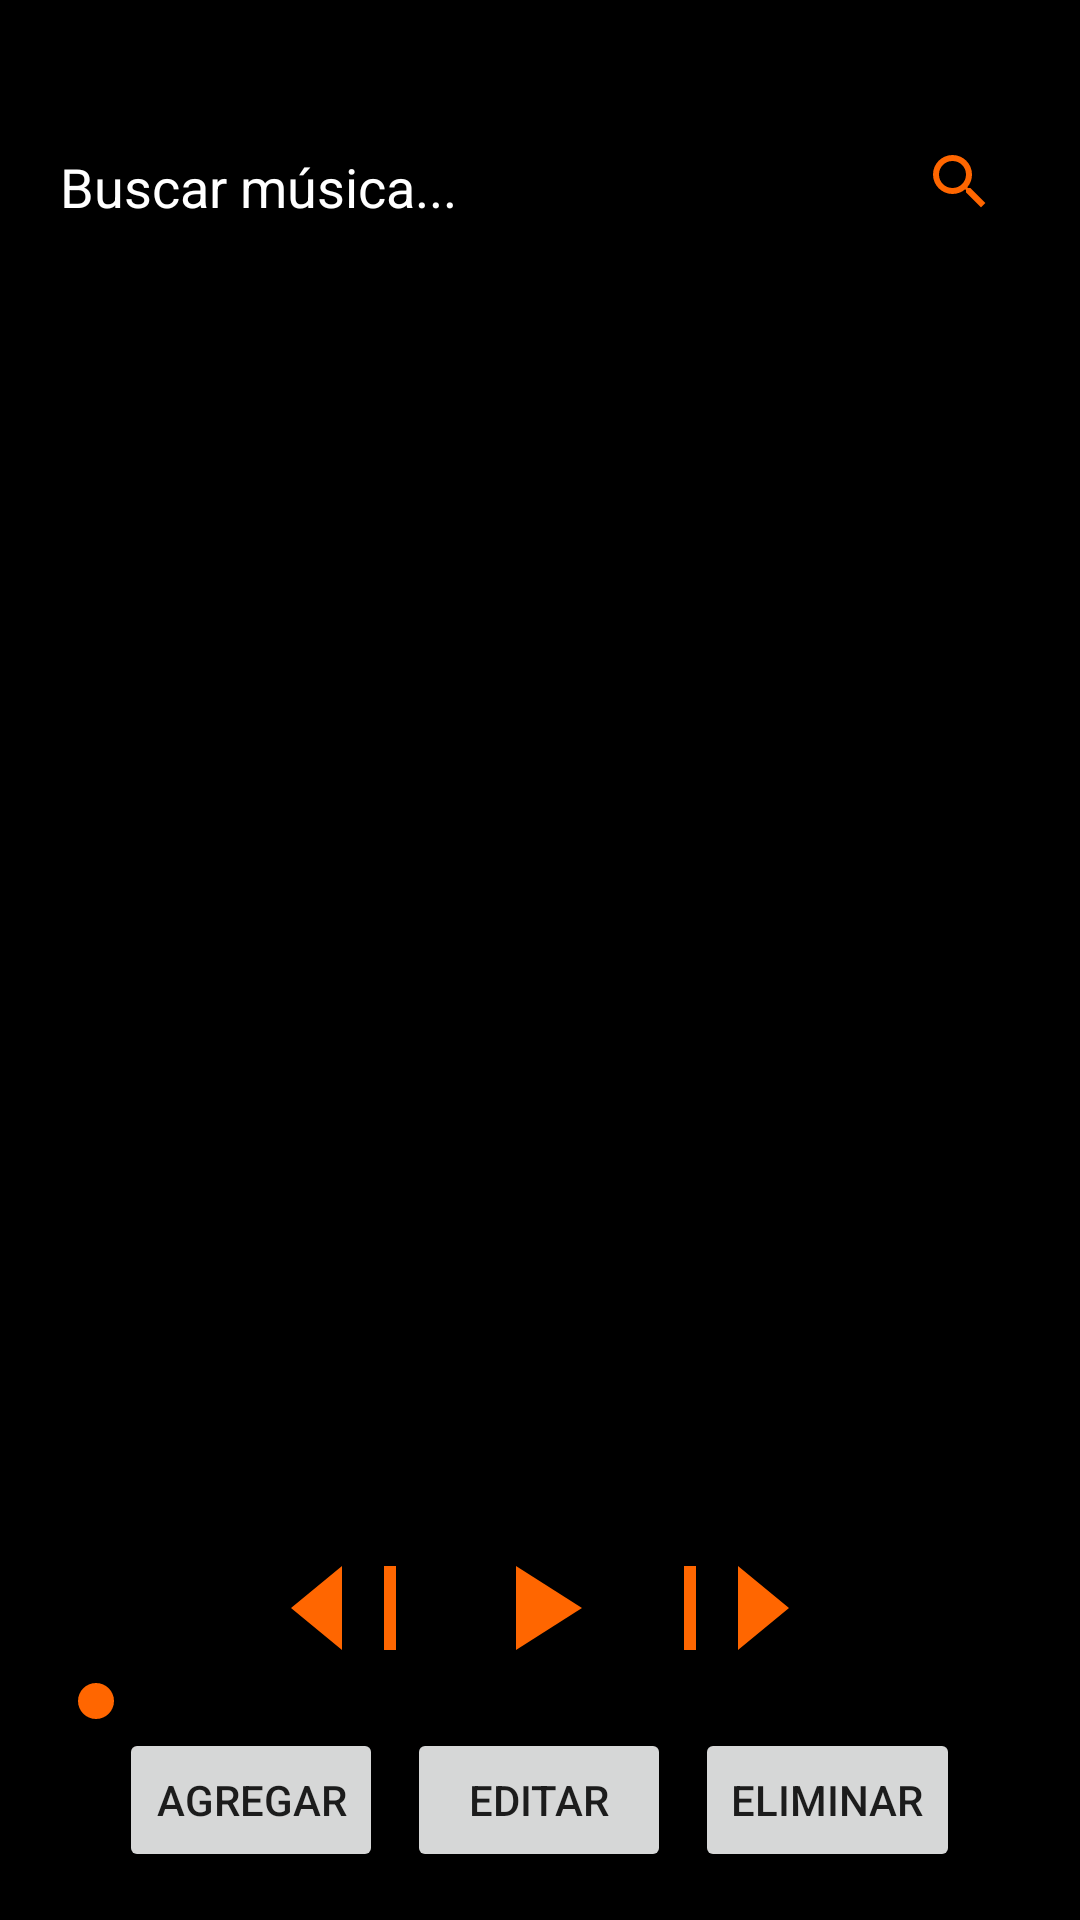

Where to tap for icons on this 1080 x 1920 app screen, as [x,y]:
next: [736,1608]
play: [549,1608]
prev: [343,1608]
search: [959,181]
